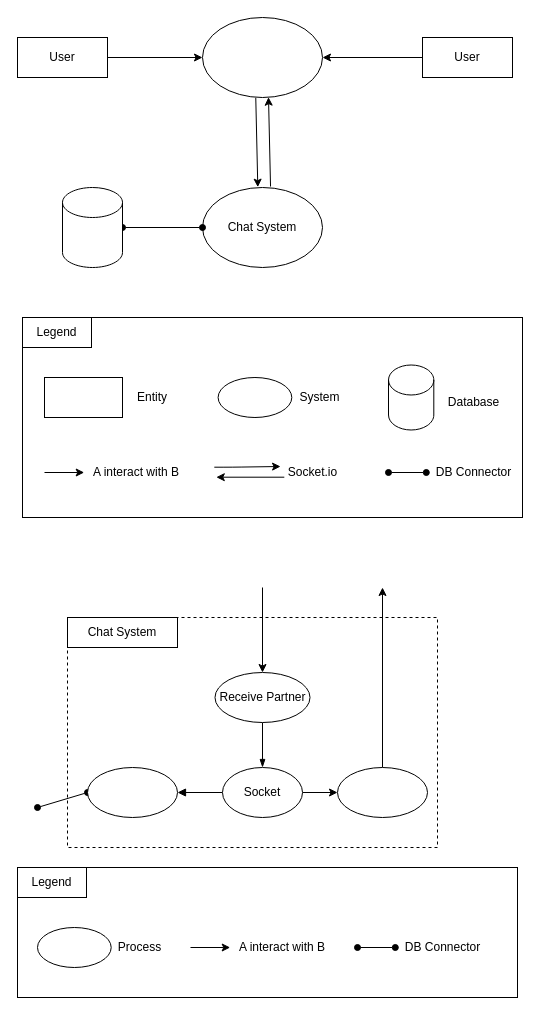
Some shapes in this 540 by 1015 pixel diagram are drawn without their labels. The box of each missing label's shape, as (x1, y1, x2, y2) in pixels:
Mobile System: (202, 16, 322, 98)
MySQL: (62, 186, 122, 268)
Send Partner: (336, 766, 428, 818)
Store Partner: (86, 766, 178, 818)
